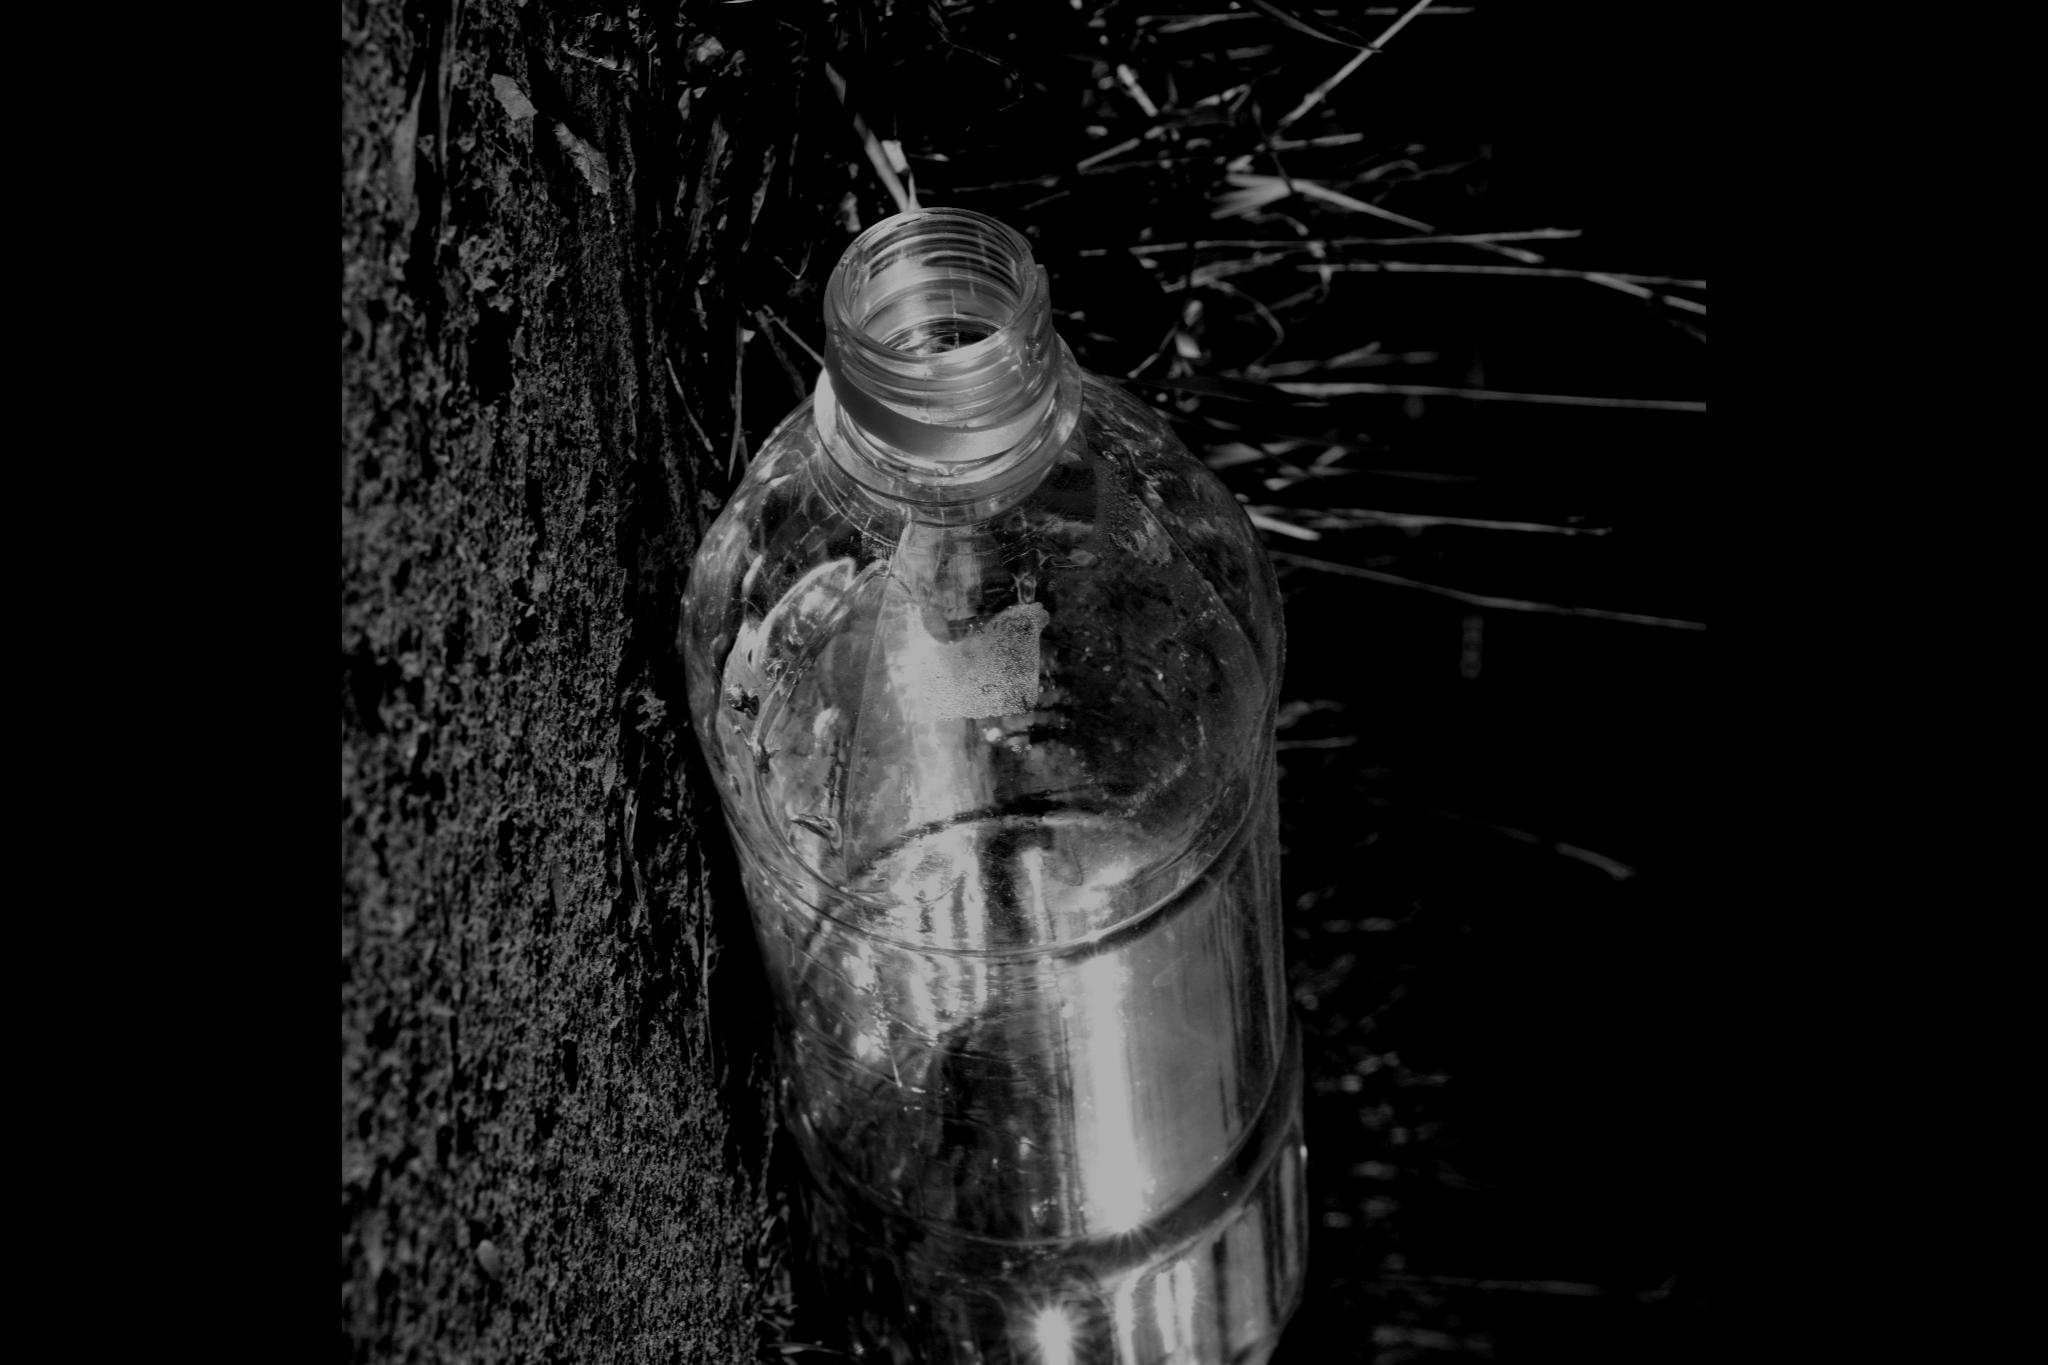bottle: (656, 182, 1332, 1365)
